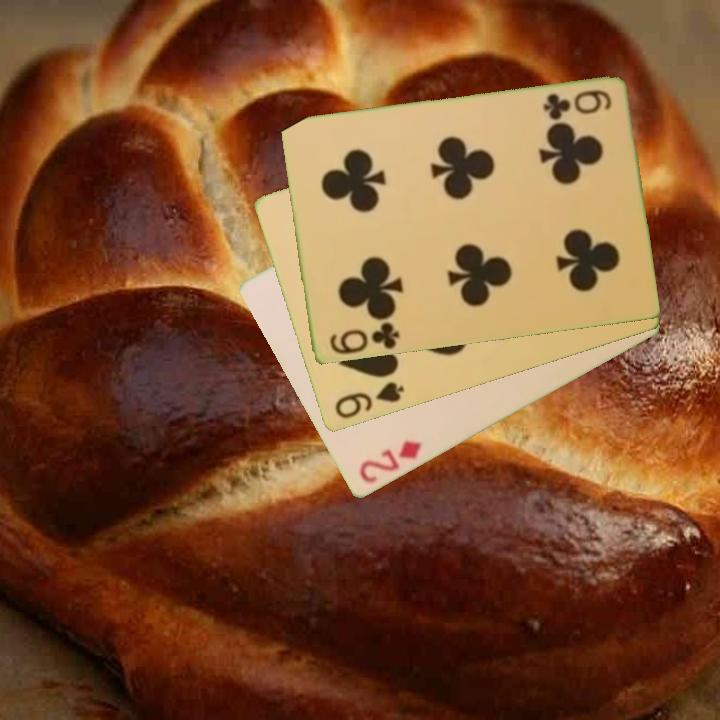2d: (355, 437, 424, 487)
6c: (326, 319, 402, 358), (539, 86, 614, 122)
9s: (331, 378, 407, 422)
